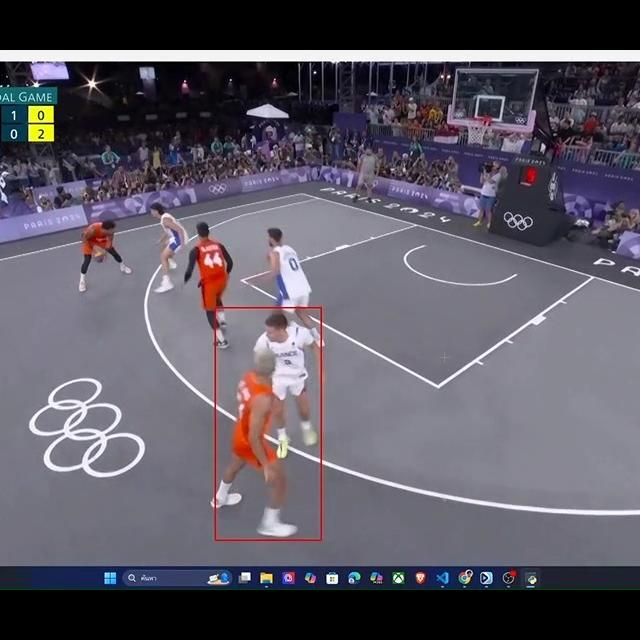basketball: (95, 250, 106, 265)
hoop: (465, 111, 492, 145)
